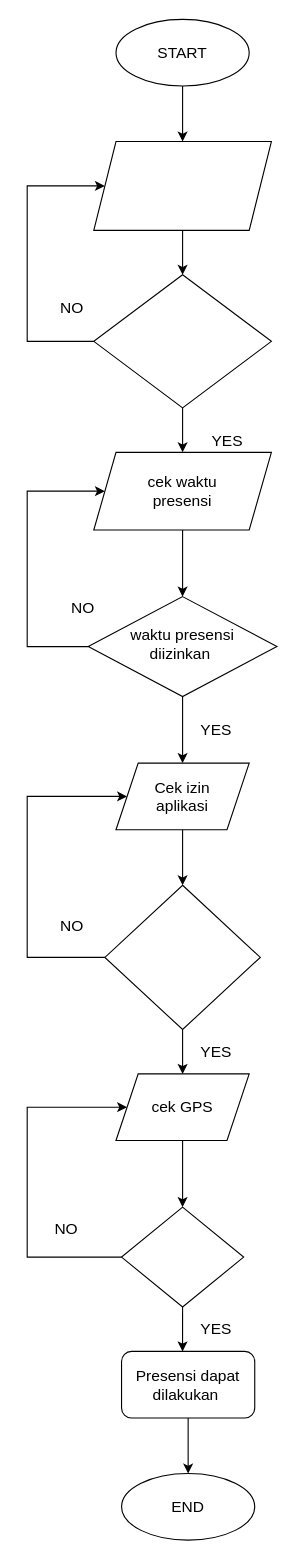
The diagram is 296 pixels wide and 1560 high, and some of its shapes have lost their labels. The centre of each missing label's shape, as x and y in pixels:
"cek koneksi internet" goes at (x=182, y=185).
"GPS telah diaktifkan" goes at (x=182, y=1256).
"izin akses lokasi diberikan" goes at (x=182, y=957).
"Koneksi internet tersedia" goes at (x=182, y=341).
